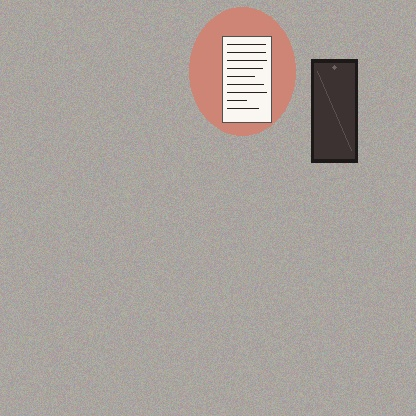cell_phone: (311, 59, 357, 162)
exam_chit: (222, 36, 271, 122)
